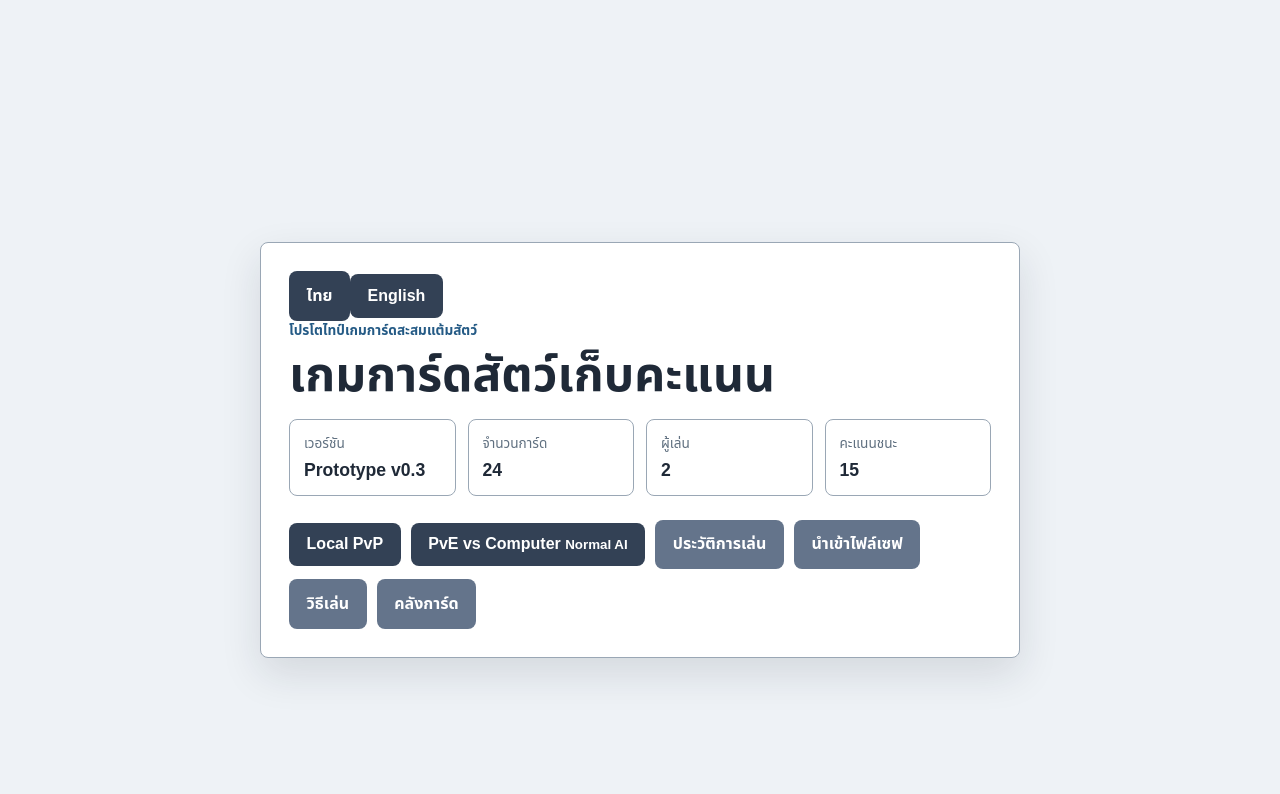
Test case: App Phase 2C-1C-A player hand card localization › hides opponent hand card identity from DOM text
What coordinates should you click on to do the following:
click the button "Local PvP"
I would click on:
 (345, 544)
Its box is [289,523,401,566].
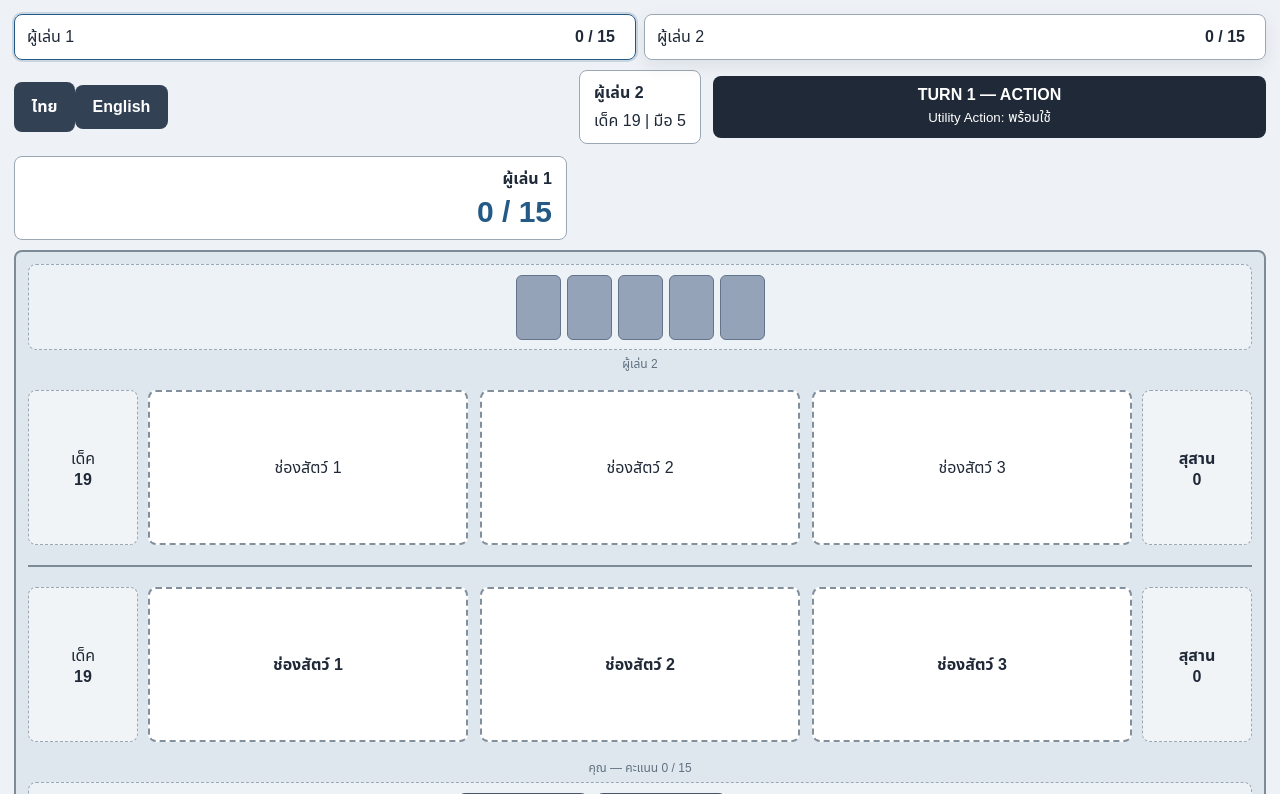
Now the 1st picture with class "card-back" is shown, box [516,274,560,340]
